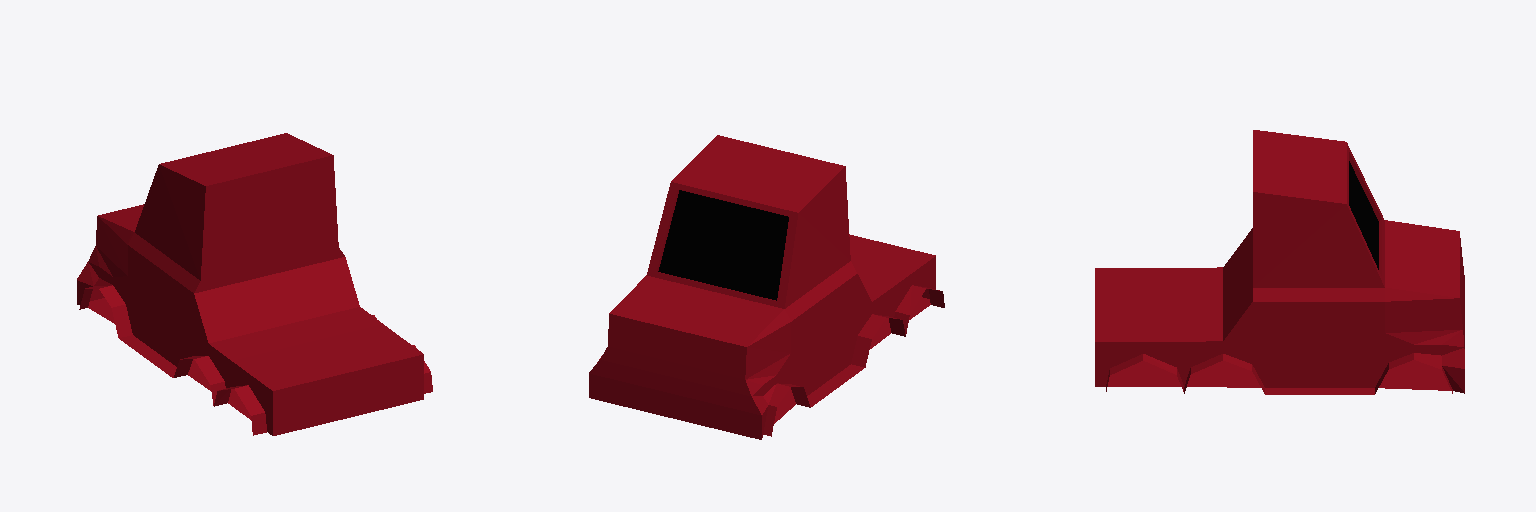
File: truck.obj
The picture shows the model from 3 angles: view 1: azimuth 30°, elevation 25°; view 2: azimuth 150°, elevation 25°; view 3: azimuth 270°, elevation 25°; orthographic projection.
Visible parts, largest first — view 1: Plane; view 2: Plane; view 3: Plane.
Part boxes in pixels (bbox=[...]): Plane: bbox=[77, 133, 432, 435]; Plane: bbox=[589, 135, 944, 439]; Plane: bbox=[1095, 130, 1464, 394].
Bounding box in the file's own units: 2.96 × 2.99 × 5.27.